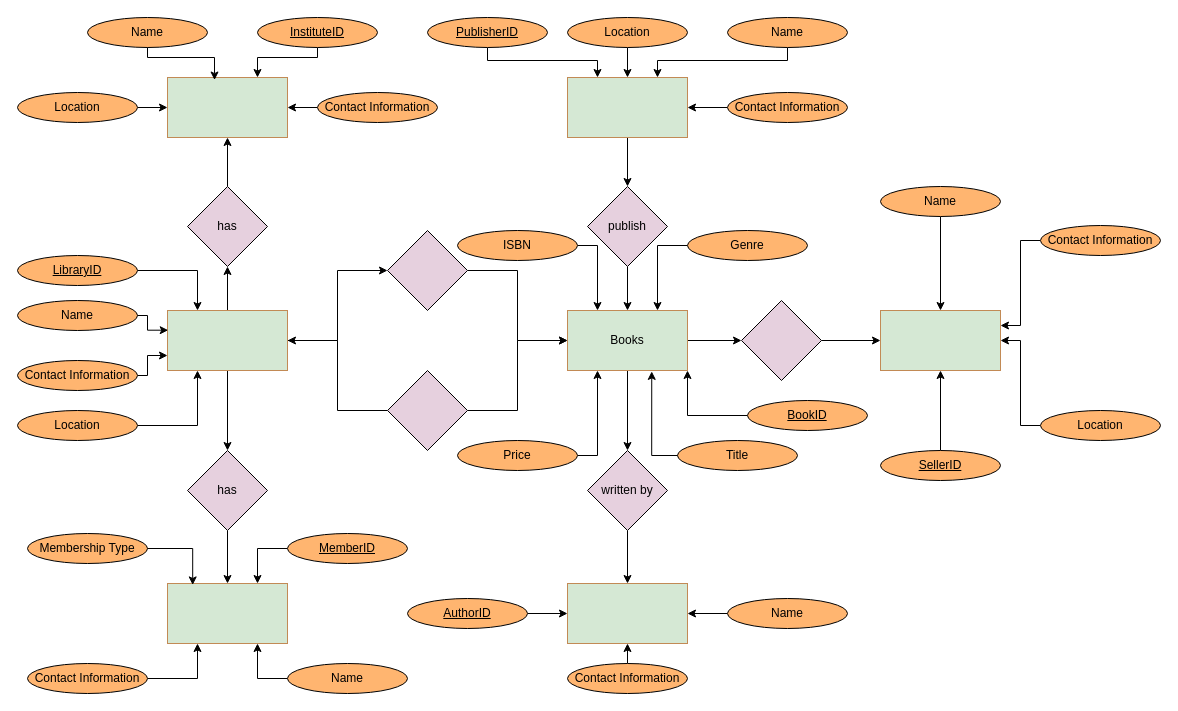
Image size: 1178x711. Some labels were removed from this diagram. The box of each missing label's shape, as (x1, y1, x2, y2) in pixels:
Authors: (566, 582, 688, 644)
buys: (386, 370, 468, 450)
contains: (386, 230, 468, 310)
Institute Libraries: (166, 76, 288, 138)
Library: (166, 310, 288, 370)
Members: (166, 582, 288, 644)
Publisher: (566, 76, 688, 138)
Sellers: (880, 310, 1000, 370)
sold by: (740, 300, 822, 380)
